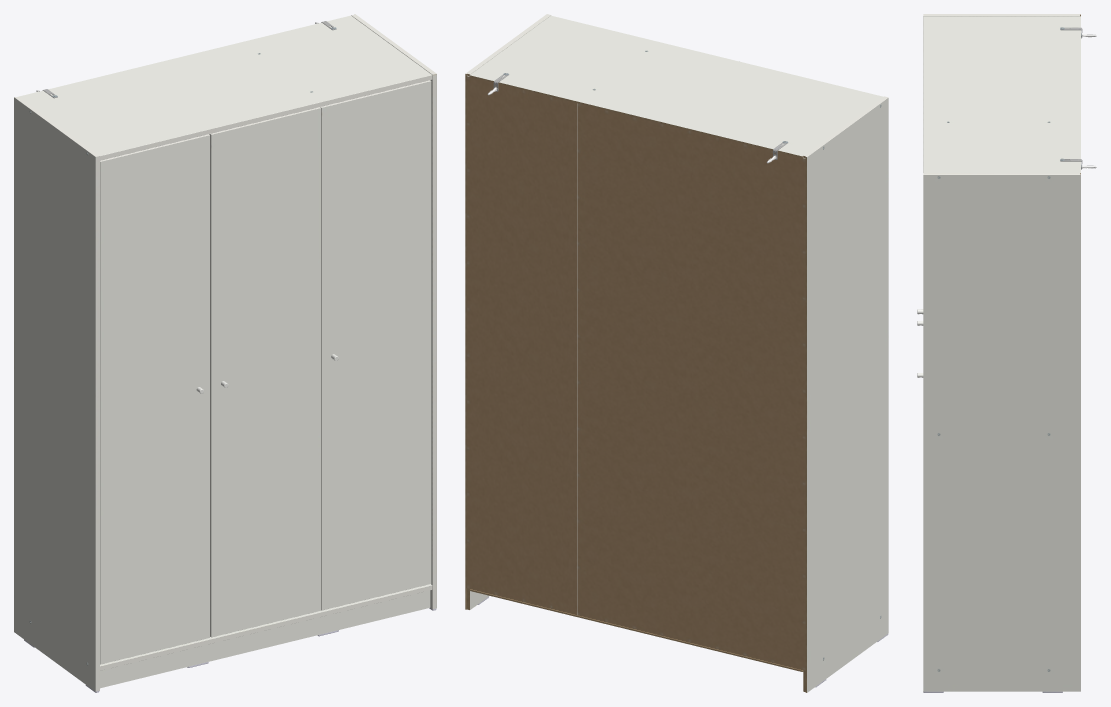
3 views of the same model, side by side, from view 1: azimuth 30°, elevation 25°; view 2: azimuth 150°, elevation 25°; view 3: azimuth 270°, elevation 25° (orthographic). The views are drawn at different scales.
Parts seen in each view (by area): view 1: world; view 2: world; view 3: world.
Part boxes in pixels (x1=…): world: x1=14, y1=14, x2=436, y2=692; world: x1=465, y1=14, x2=888, y2=692; world: x1=917, y1=14, x2=1096, y2=692.
Size of the model in its own units: 1.17 by 1.76 by 0.55.
1 material, 1 textured.
